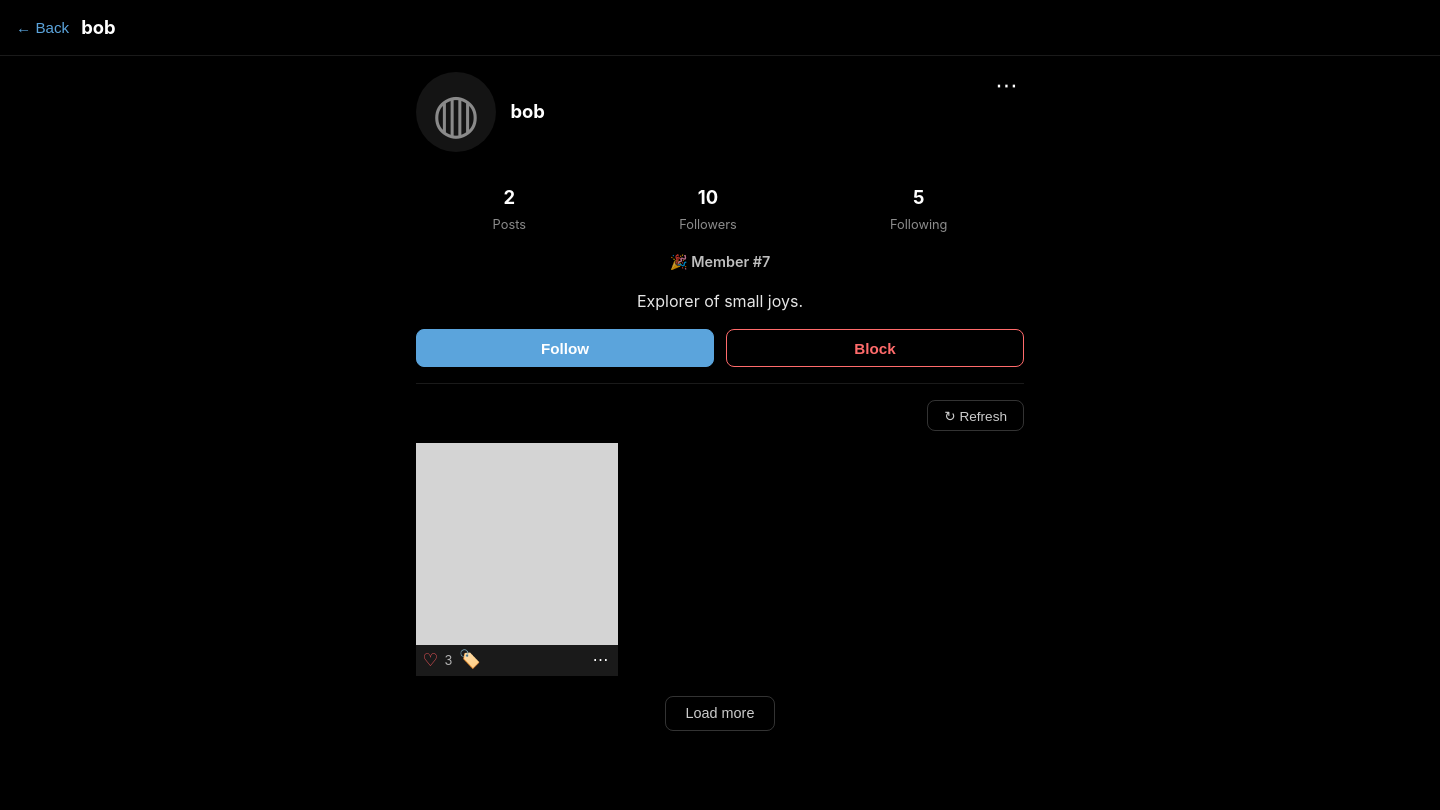
reverts the like when the request fails
Click the button named "Like post".
click(430, 660)  # box left=422, top=650, right=438, bottom=671
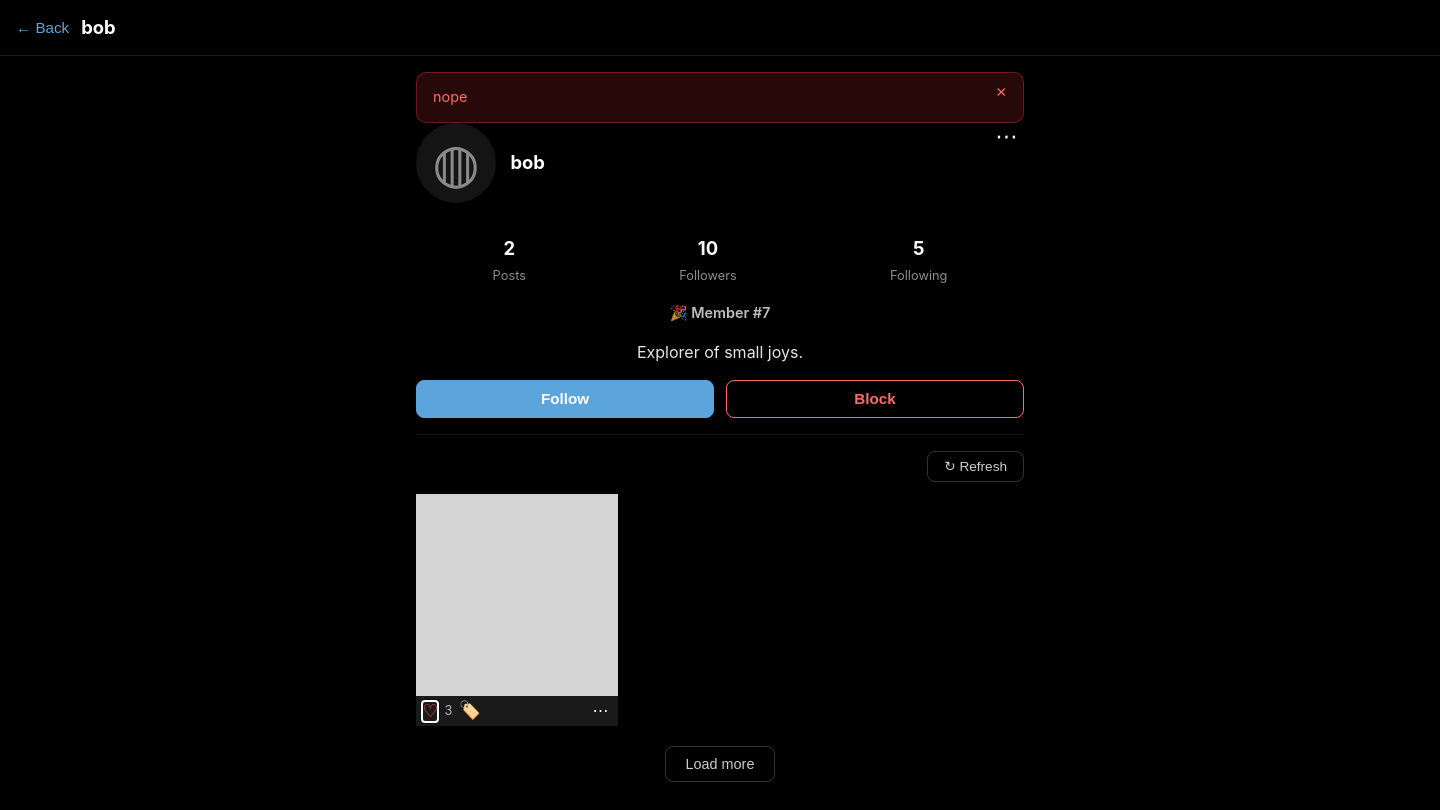
Expected: the button named "Like post" is shown, left=422, top=701, right=438, bottom=722
Expected: the message shows "nope", left=433, top=88, right=467, bottom=105
